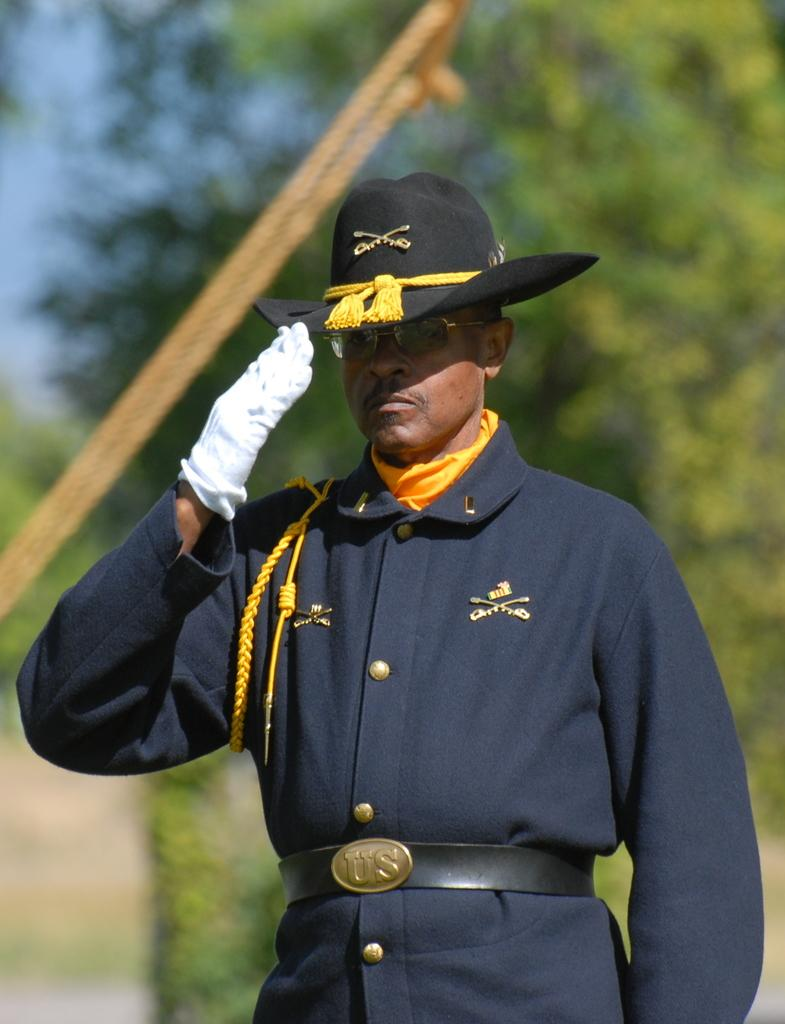Hat: (254, 163, 594, 333)
